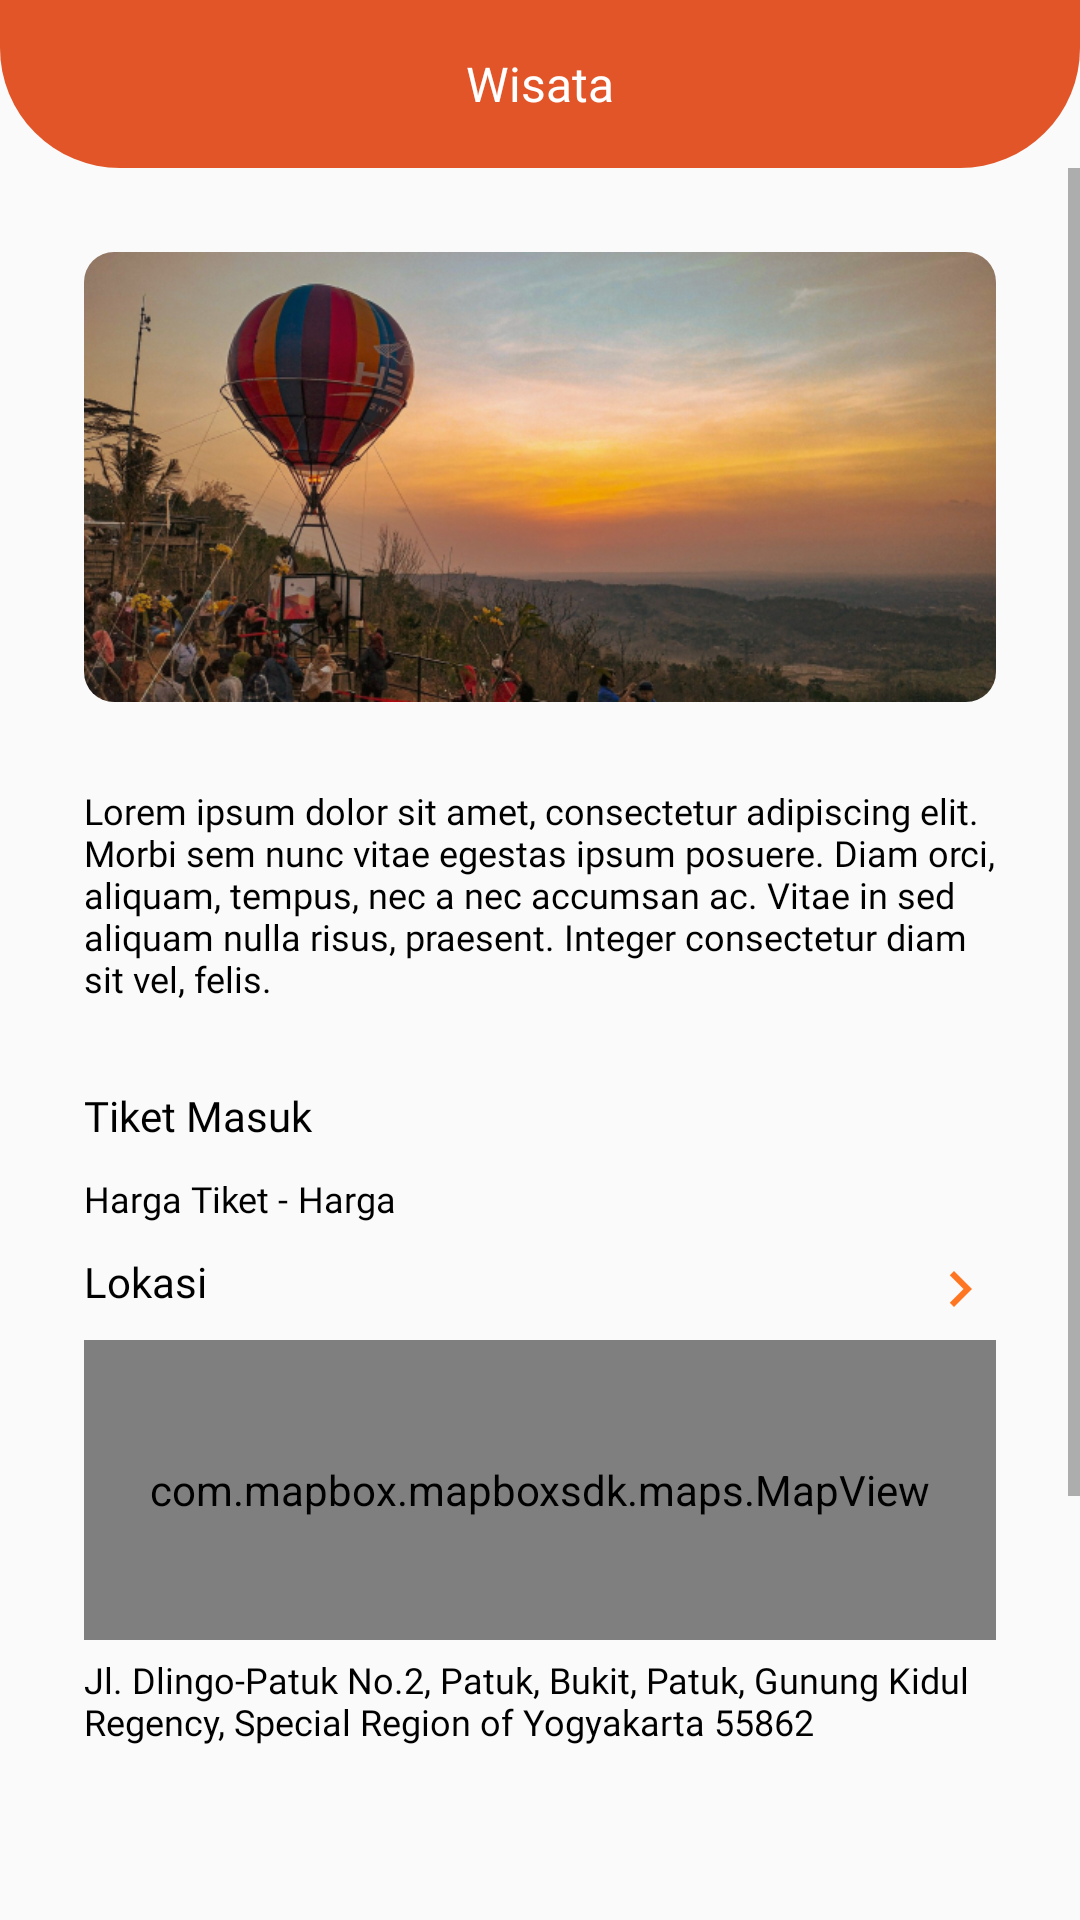

Named icons in this screenshot (1080*1920) and their centers, (x,y):
navigate next: (961,1289)
